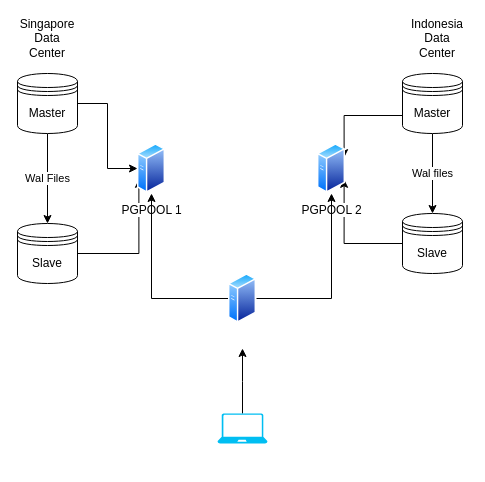
Some shapes in this 485 by 482 pixel diagram are drawn without their labels. Here are the shapes that lost their labels. From the top down, the centre of each, then its label:
At point (242, 298): "PGPOOL gateway".
At point (242, 428): "User".
